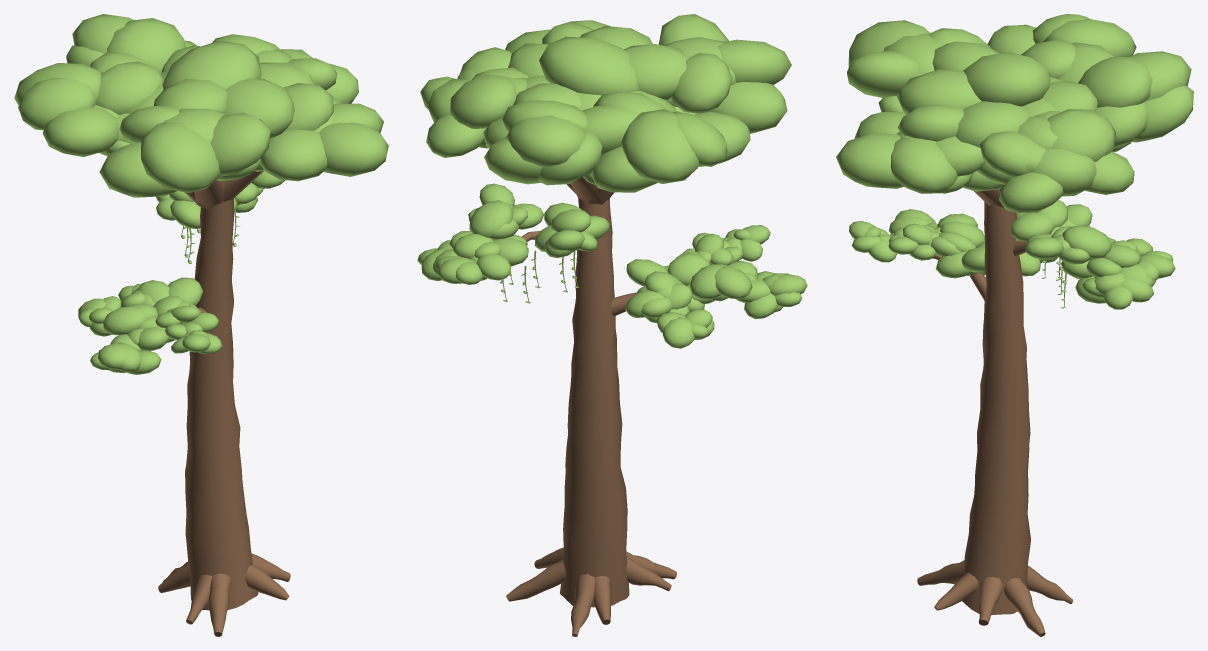
File: first_steps_tree_02.glb
3 renders of one model, left to right at view 1: azimuth 30°, elevation 25°; view 2: azimuth 150°, elevation 25°; view 3: azimuth 270°, elevation 25°, orthographic. The views are drawn at different scales.
Visible parts, largest first — view 1: CrownMesh, Trunk, BoughMeshA, BoughMeshB; view 2: CrownMesh, Trunk, BoughMeshA, BoughMeshB; view 3: CrownMesh, Trunk, BoughMeshB, BoughMeshA.
Part boxes in pixels (box(x1,y1,x2,y2)): CrownMesh: box(14, 14, 388, 209); Trunk: box(158, 181, 290, 636); BoughMeshA: box(78, 277, 222, 374); BoughMeshB: box(156, 171, 285, 263); CrownMesh: box(420, 14, 791, 205); Trunk: box(506, 197, 676, 636); BoughMeshA: box(610, 225, 807, 348); BoughMeshB: box(417, 183, 609, 303); CrownMesh: box(836, 14, 1193, 213); Trunk: box(917, 202, 1073, 636); BoughMeshB: box(1010, 200, 1175, 309); BoughMeshA: box(849, 209, 1057, 300).
Size of the model in its own units: 34.94 by 58.45 by 34.1.
